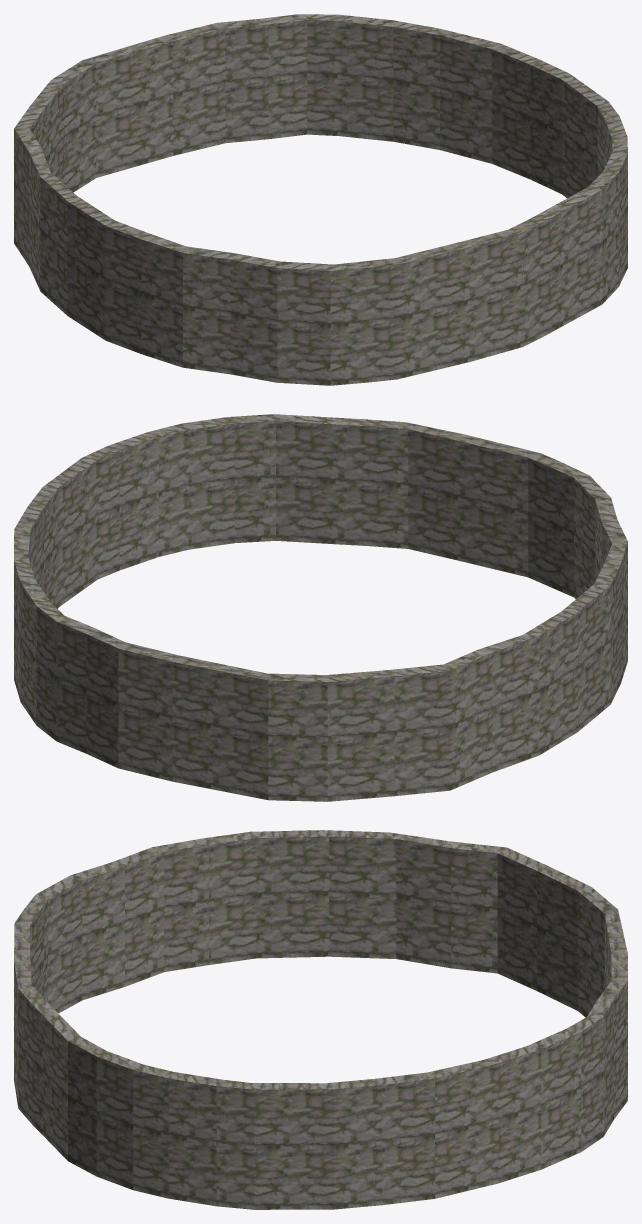
File: Circle_Edge2_LevelB.fbx
3 renders of one model, top to bottom at view 1: azimuth 30°, elevation 25°; view 2: azimuth 150°, elevation 25°; view 3: azimuth 270°, elevation 25°, orthographic. The views are drawn at different scales.
Visible parts, largest first — view 1: Circle_Edge; view 2: Circle_Edge; view 3: Circle_Edge.
Part boxes in pixels (x1,y1,x2,y2): Circle_Edge: (14,14,627,385); Circle_Edge: (14,414,627,801); Circle_Edge: (14,830,627,1209).
Bounding box in the file's own units: 1853 × 400 × 1852.
Materials: 1 (1 with a texture image).
